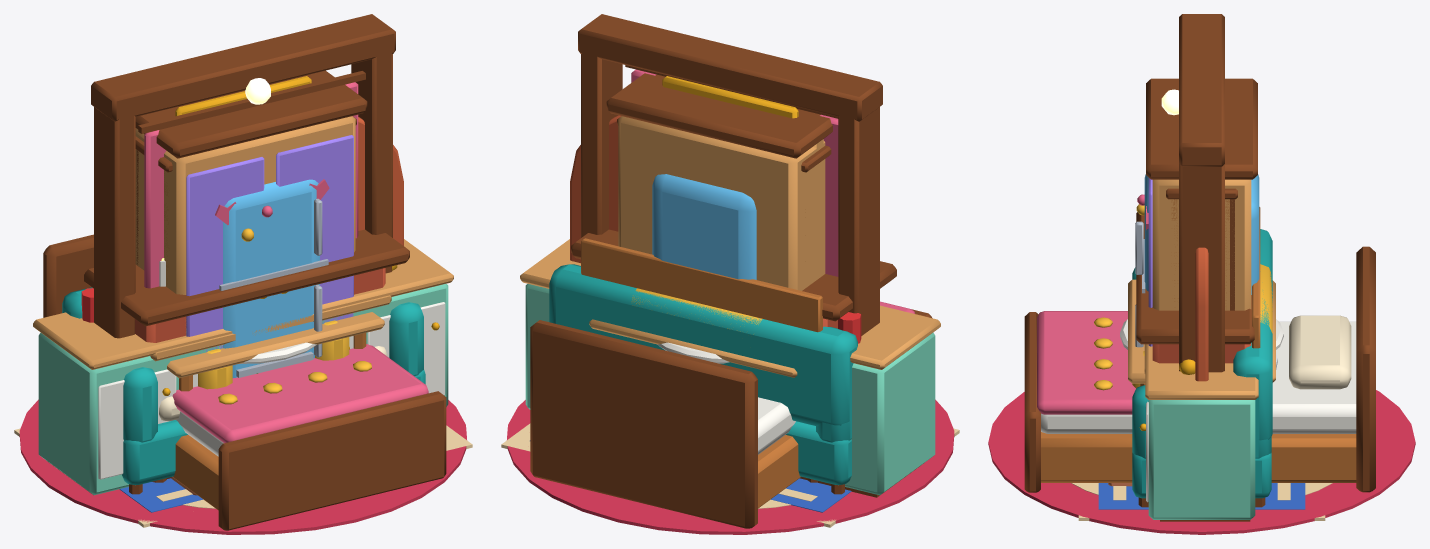
The model's file is house.glb.
3 renders of one model, left to right at view 1: azimuth 30°, elevation 25°; view 2: azimuth 150°, elevation 25°; view 3: azimuth 270°, elevation 25°, orthographic. The views are drawn at different scales.
Parts seen in each view (by area): view 1: bed, wardrobe, door_frame, counter, fridge, rug_round, fireplace, sofa, window, dining_table, rug_rect, workbench (+6 smaller); view 2: bed, door_frame, wardrobe, sofa, counter, rug_round, fridge, workbench, window, fireplace, door, rug_rect (+4 smaller); view 3: bed, counter, door_frame, wardrobe, rug_round, sofa, fireplace, fridge, rug_rect, door, dining_table, bookshelf (+2 smaller).
Part boxes in pixels (x1,y1,x2,y2): bed: [43, 234, 446, 530]; wardrobe: [135, 70, 367, 353]; door_frame: [91, 14, 395, 338]; counter: [33, 239, 453, 495]; fridge: [219, 179, 328, 377]; rug_round: [19, 399, 466, 534]; fireplace: [84, 229, 409, 495]; sofa: [62, 287, 425, 494]; window: [138, 71, 365, 288]; dining_table: [167, 312, 384, 391]; rug_rect: [14, 425, 472, 527]; workbench: [150, 295, 391, 482]; bed: [530, 301, 932, 528]; door_frame: [578, 14, 882, 335]; wardrobe: [606, 73, 832, 290]; sofa: [549, 264, 857, 494]; counter: [520, 239, 940, 497]; rug_round: [507, 399, 954, 534]; fridge: [652, 174, 756, 279]; workbench: [581, 238, 822, 482]; window: [625, 65, 838, 279]; fireplace: [571, 229, 896, 480]; door: [570, 115, 620, 263]; rug_rect: [501, 423, 959, 527]; bed: [1024, 246, 1375, 492]; counter: [1139, 344, 1258, 521]; door_frame: [1161, 14, 1224, 372]; wardrobe: [1146, 78, 1257, 346]; rug_round: [988, 390, 1415, 534]; sofa: [1132, 229, 1272, 507]; fireplace: [1108, 212, 1254, 486]; fridge: [1135, 174, 1259, 347]; rug_rect: [1078, 483, 1325, 520]; door: [1179, 247, 1208, 381]; dining_table: [1128, 279, 1275, 386]; bookshelf: [1166, 188, 1237, 310].
Size of the model in its own units: 2.6 by 2.46 by 2.6.
